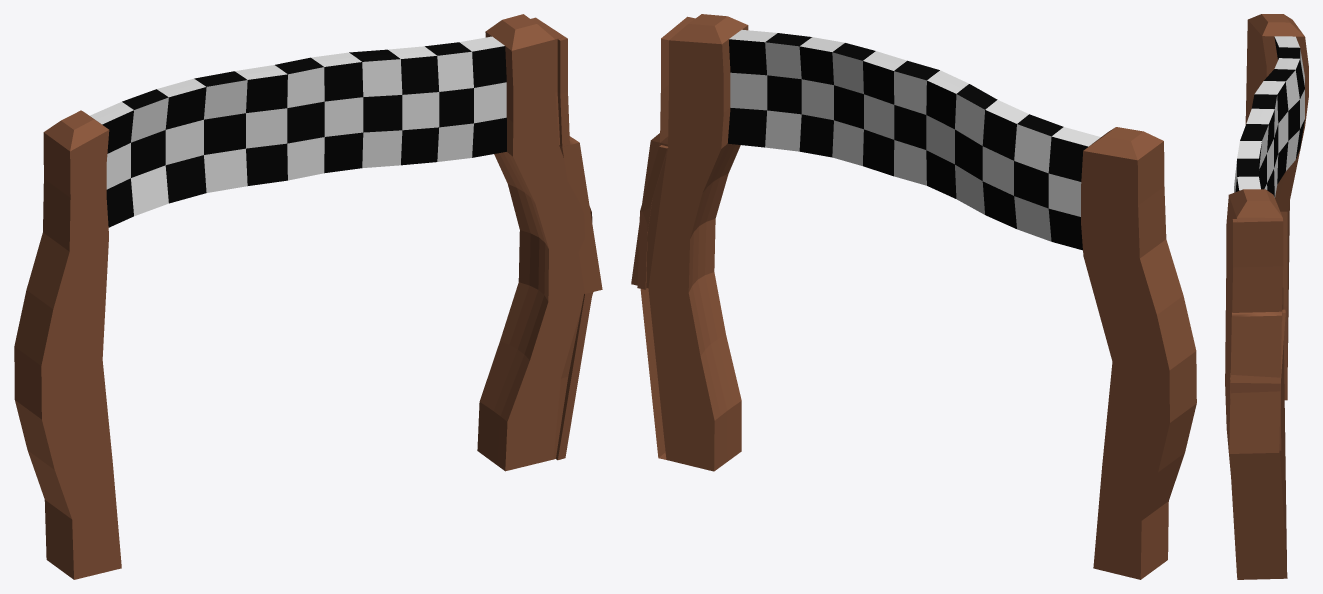
Rendered from Finish.fbx.
3 views of the same model, side by side, from view 1: azimuth 30°, elevation 25°; view 2: azimuth 150°, elevation 25°; view 3: azimuth 270°, elevation 25° (orthographic). The views are drawn at different scales.
Parts seen in each view (by area): view 1: Finish; view 2: Finish; view 3: Finish.
Part boxes in pixels (x1,y1,x2,y2): Finish: (14,14,602,579); Finish: (631,14,1196,579); Finish: (1225,14,1308,579).
Bounding box in the file's own units: 694 × 535 × 108.
